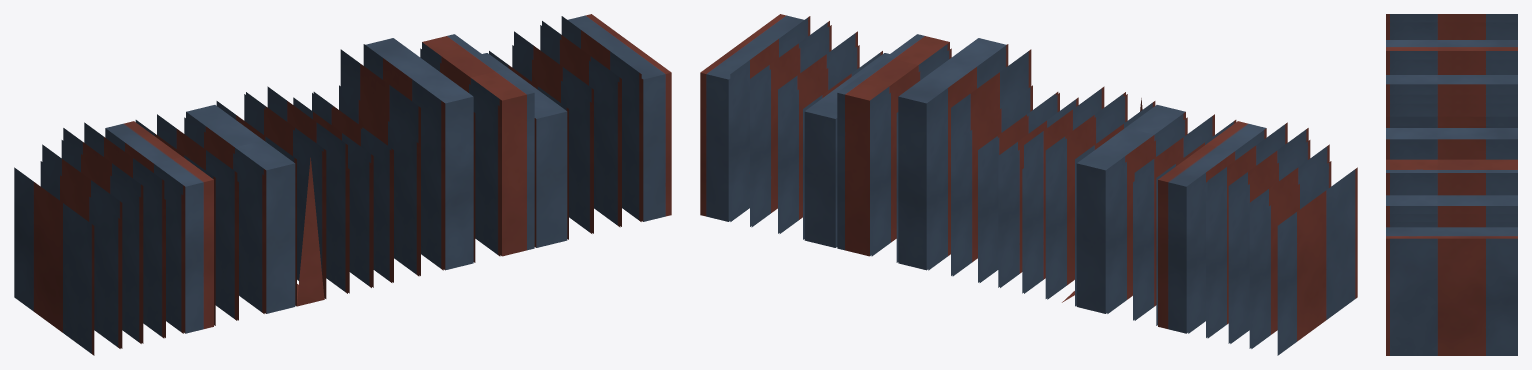
Rendered from BookGroup_Medium_3_LOD2.gltf.
3 views of the same model, side by side, from view 1: azimuth 30°, elevation 25°; view 2: azimuth 150°, elevation 25°; view 3: azimuth 270°, elevation 25° (orthographic). The views are drawn at different scales.
Parts seen in each view (by area): view 1: BookGroup_Medium_3_LOD2; view 2: BookGroup_Medium_3_LOD2; view 3: BookGroup_Medium_3_LOD2.
Boxes of the visible parts, x1,y1,x2,y2 form: BookGroup_Medium_3_LOD2: [14, 14, 671, 355]; BookGroup_Medium_3_LOD2: [700, 14, 1357, 355]; BookGroup_Medium_3_LOD2: [1386, 14, 1517, 355].
Size of the model in its own units: 1.04 by 0.29 by 0.25.
1 material, 1 textured.
